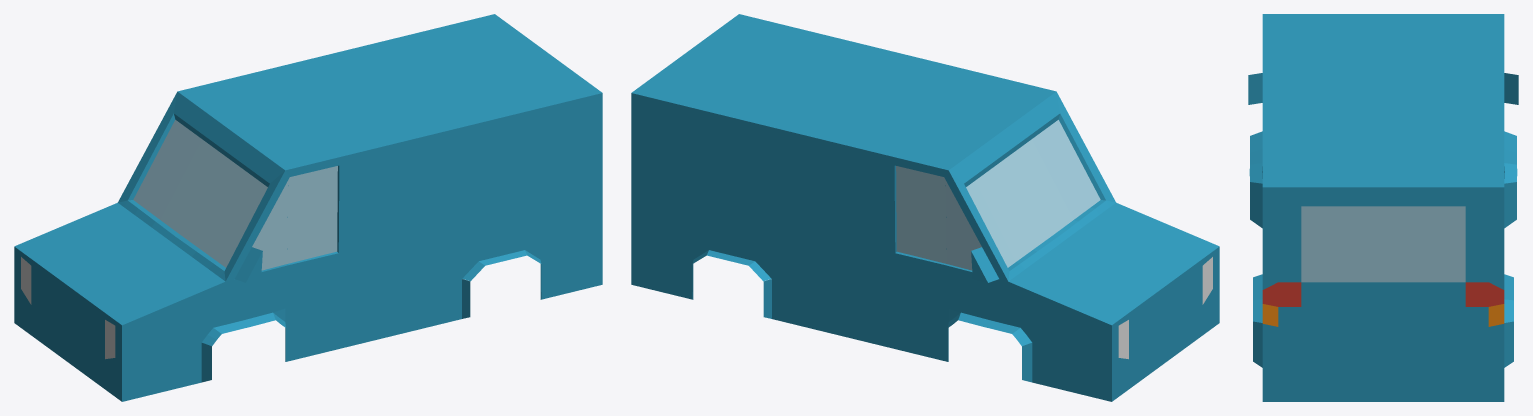
The model's file is blue DigiVan.fbx.
3 views of the same model, side by side, from view 1: azimuth 30°, elevation 25°; view 2: azimuth 150°, elevation 25°; view 3: azimuth 270°, elevation 25° (orthographic). The views are drawn at different scales.
Parts seen in each view (by area): view 1: Cube; view 2: Cube; view 3: Cube.
Boxes of the visible parts, <box> form: Cube: <box>14,14,602,401</box>; Cube: <box>631,14,1219,401</box>; Cube: <box>1248,14,1518,401</box>.
Bounding box in the file's own units: 952 × 363 × 414.
